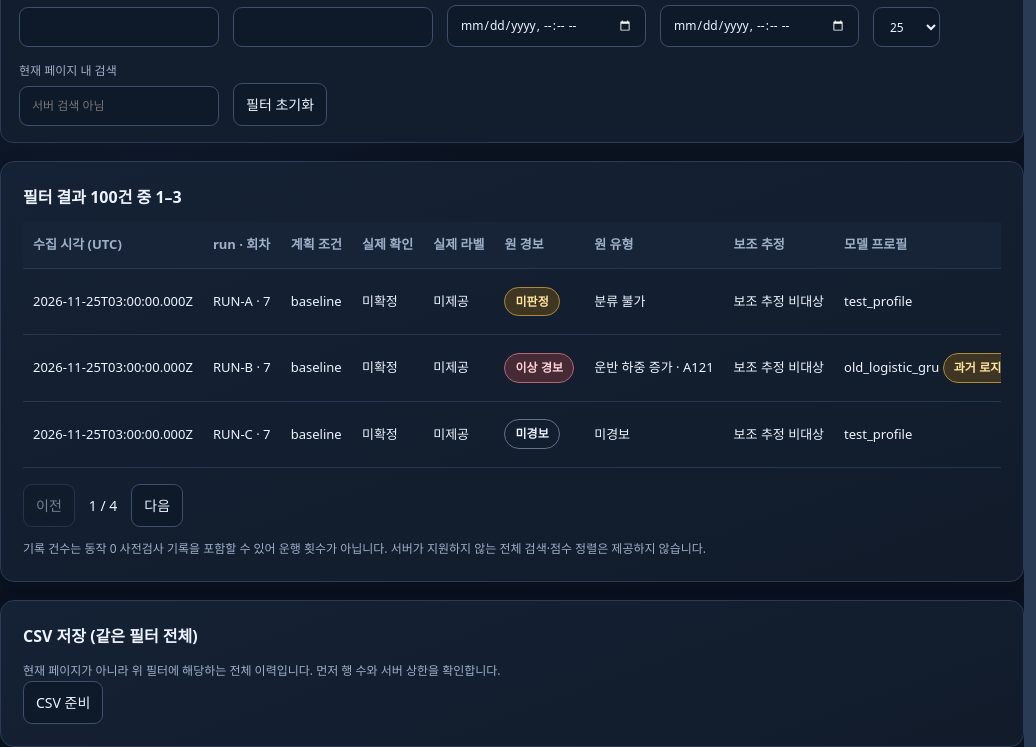
it: XarmHistory › CSV: 서버 상한으로 잘리면 전체가 아님을 경고하고 링크도 일부임을 표시
The image size is (1036, 747).
(page scrolled)
Check: the text "RUN-A · 7" is shown, box [203,268,281,335]
Click the button "CSV 준비" at {"x": 63, "y": 703}, box [23,681,103,724]
(page scrolled)
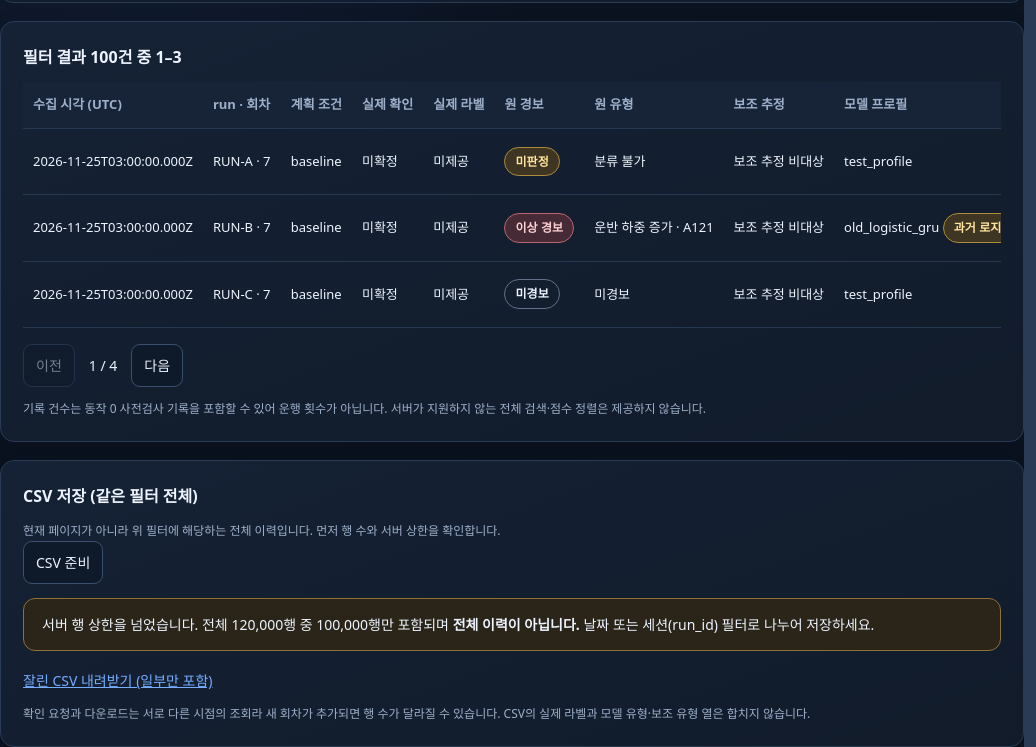
Check: the text "전체 이력이 아닙니다." is shown, box [453,615,580,634]
Check: the link "잘린 CSV 내려받기 (일부만 포함)" is shown, box [23,671,213,690]
